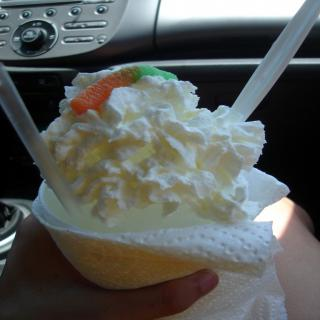Ice cream: (34, 69, 263, 224)
